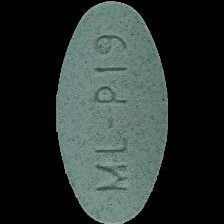67253-383: (0, 0, 224, 224)
